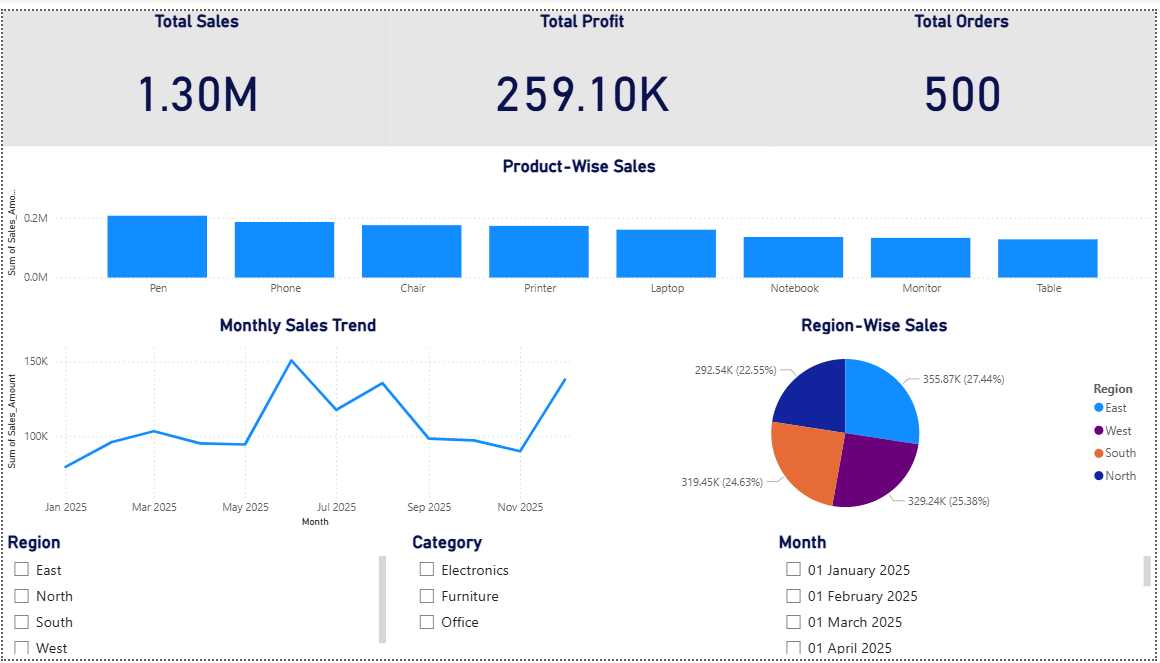

The page's visual inventory and layout, read from the dashboard file:
{"tool":"powerbi","page":{"name":"Page 1","canvas":[1280,720],"ordinal":0},"visuals":[{"type":"card","title":"Total Sales","fields":{"Values":["Sum(SalesData.Sales_Amount)"]},"box":[0,0,430.6,150],"z":0},{"type":"card","title":"Total Profit","fields":{"Values":["Sum(SalesData.Profit)"]},"box":[430.6,0,426.4,150],"z":1000},{"type":"card","title":"Total Orders","fields":{"Values":["Count(SalesData.Order_ID)"]},"box":[850,0,430.6,150],"z":2000},{"type":"clusteredColumnChart","title":"Product-Wise Sales","fields":{"Category":["SalesData.Product"],"Y":["Sum(SalesData.Sales_Amount)"]},"box":[0,161.1,1280.6,165.3],"z":3000},{"type":"lineChart","title":"Monthly Sales Trend","fields":{"Y":["Sum(SalesData.Sales_Amount)"],"Category":["SalesData.Month"]},"box":[0,337.5,655.6,241.7],"z":4000},{"type":"pieChart","title":"Region-Wise Sales","fields":{"Category":["SalesData.Region"],"Y":["Sum(SalesData.Sales_Amount)"]},"box":[655.6,337.5,625,241.7],"z":5000},{"type":"slicer","title":"Region","fields":{"Values":["SalesData.Region"]},"box":[0,579.2,430.6,140.3],"z":6000},{"type":"slicer","title":"Category","fields":{"Values":["SalesData.Category"]},"box":[450,579.2,379.2,140.3],"z":7000},{"type":"slicer","title":"Month","fields":{"Values":["SalesData.Month"]},"box":[856.9,579.2,423.6,140.3],"z":8000}]}

Visuals, with their boxes in screenshot pixels (x1, y1, x2, y2), scaled from the page's 1280x720 canvas onto the 1160x663 screenshot:
"Total Sales" card: region(0, 0, 390, 138)
"Total Profit" card: region(390, 0, 777, 138)
"Total Orders" card: region(770, 0, 1159, 138)
"Product-Wise Sales" clusteredColumnChart: region(0, 148, 1159, 301)
"Monthly Sales Trend" lineChart: region(0, 311, 594, 533)
"Region-Wise Sales" pieChart: region(594, 311, 1159, 533)
"Region" slicer: region(0, 533, 390, 662)
"Category" slicer: region(408, 533, 751, 662)
"Month" slicer: region(777, 533, 1159, 662)
